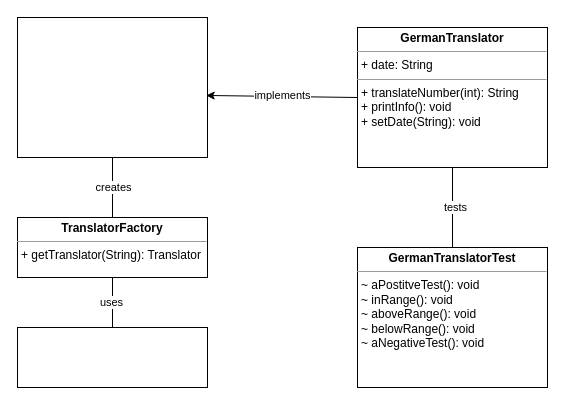
Image size: 565x405. Some labels were removed from this diagram. The shapes that lost their labels are listed below. From the top down, each one's centre as x and y in pixels, then its label:
the point at 112,87: <<Interface>> Translator ~ version: double + TranslateNumber(int): String
the point at 112,357: Client ~ display(int): void
